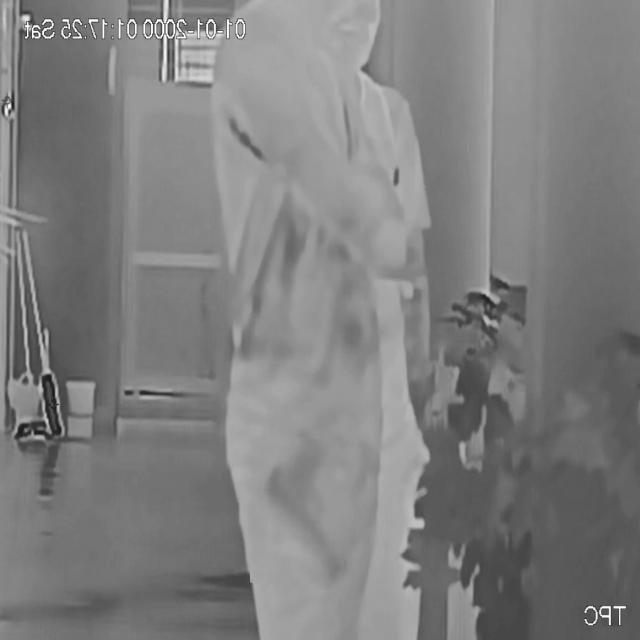Weapon: (253, 436, 352, 590)
